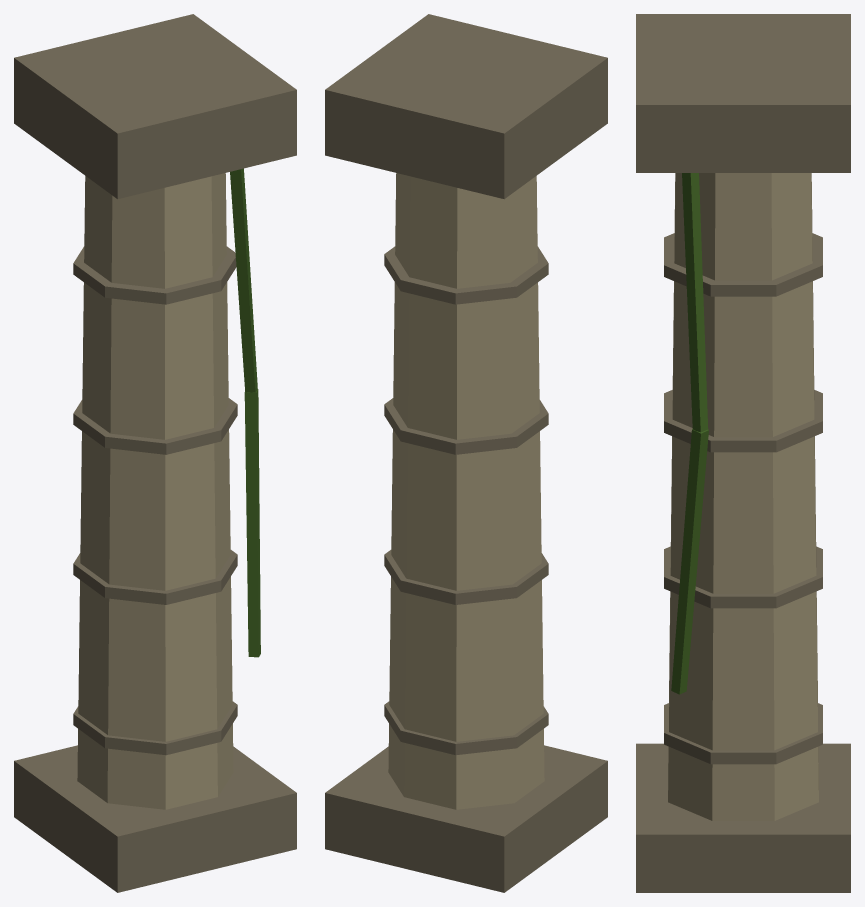
The model's file is pillar.glb.
3 renders of one model, left to right at view 1: azimuth 30°, elevation 25°; view 2: azimuth 150°, elevation 25°; view 3: azimuth 270°, elevation 25°, orthographic. The views are drawn at different scales.
Visible parts, largest first — view 1: stone_temple-col, stone_temple_dark-col, vine; view 2: stone_temple-col, stone_temple_dark-col; view 3: stone_temple-col, stone_temple_dark-col, vine.
Part boxes in pixels (x1,y1,x2,y2): stone_temple-col: (77, 173, 233, 809); stone_temple_dark-col: (14, 14, 296, 892); vine: (230, 168, 260, 657); stone_temple-col: (388, 173, 544, 809); stone_temple_dark-col: (325, 14, 607, 892); stone_temple-col: (668, 173, 818, 820); stone_temple_dark-col: (636, 14, 850, 892); vine: (671, 173, 708, 694).
Size of the model in its own units: 1 by 4.05 by 1.
